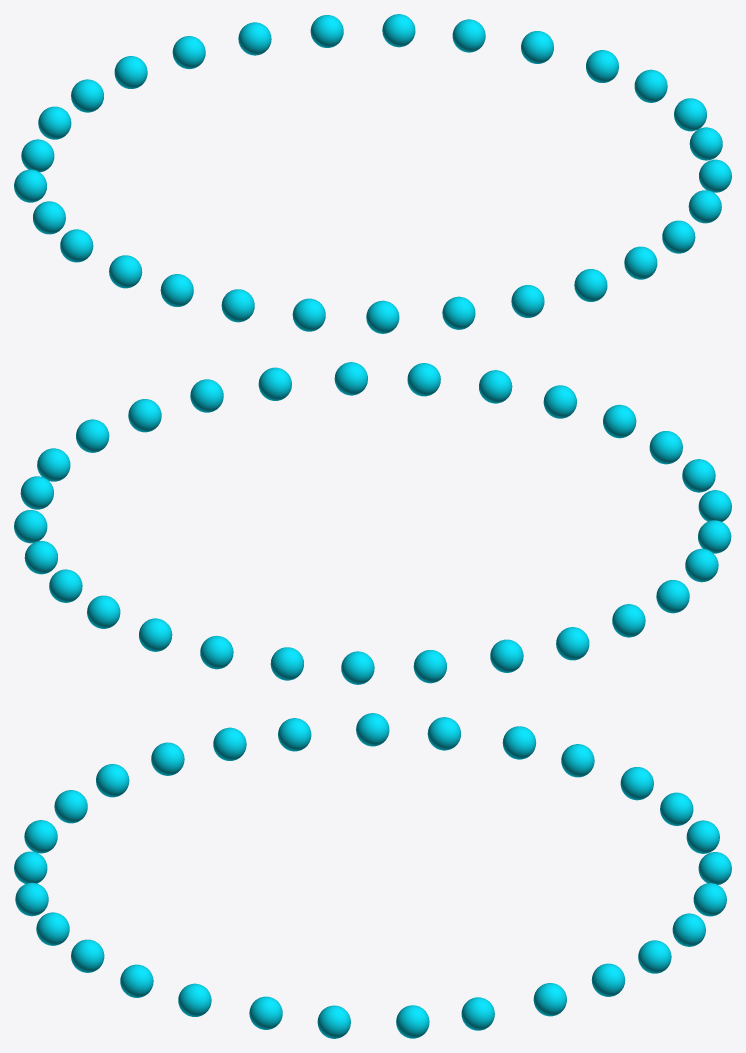
3 renders of one model, top to bottom at view 1: azimuth 30°, elevation 25°; view 2: azimuth 150°, elevation 25°; view 3: azimuth 270°, elevation 25°, orthographic.
Visible parts, largest first — view 1: Sphere050; view 2: Sphere050; view 3: Sphere050.
Boxes of the visible parts, bbox=[...] form: Sphere050: bbox=[14, 14, 731, 333]; Sphere050: bbox=[14, 362, 731, 684]; Sphere050: bbox=[14, 713, 731, 1038].
Bounding box in the file's own units: 178 × 8.22 × 176.
